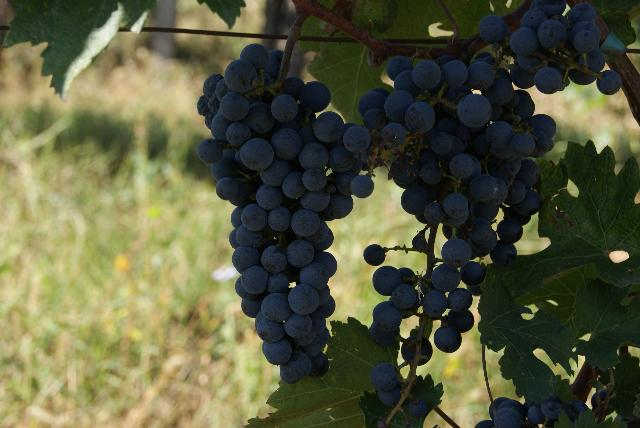grapes: (199, 44, 390, 384), (359, 60, 555, 350), (479, 15, 508, 44)
